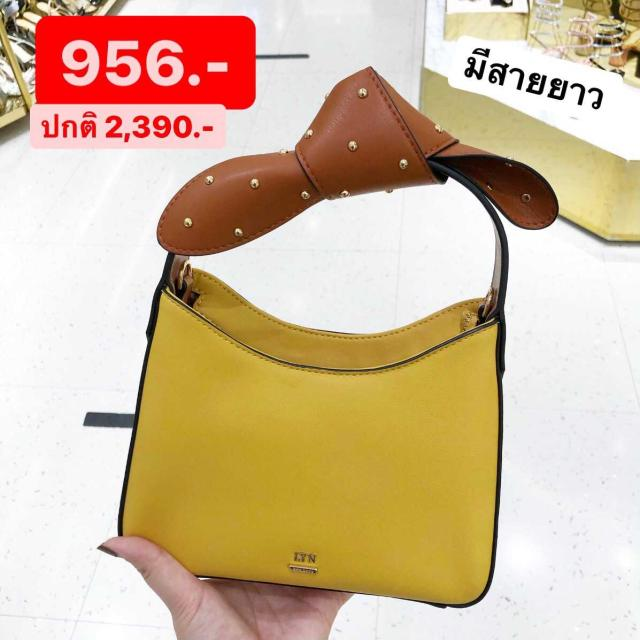Handbag: (84, 245, 548, 628)
